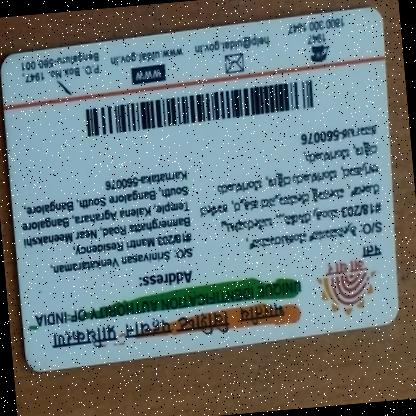aadhaar_card: (0, 14, 406, 361)
